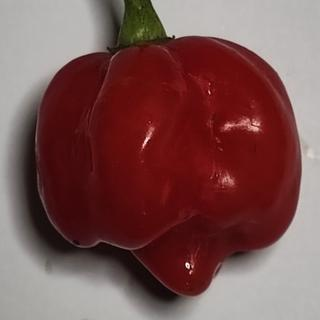Grade-B: (24, 33, 305, 297)
